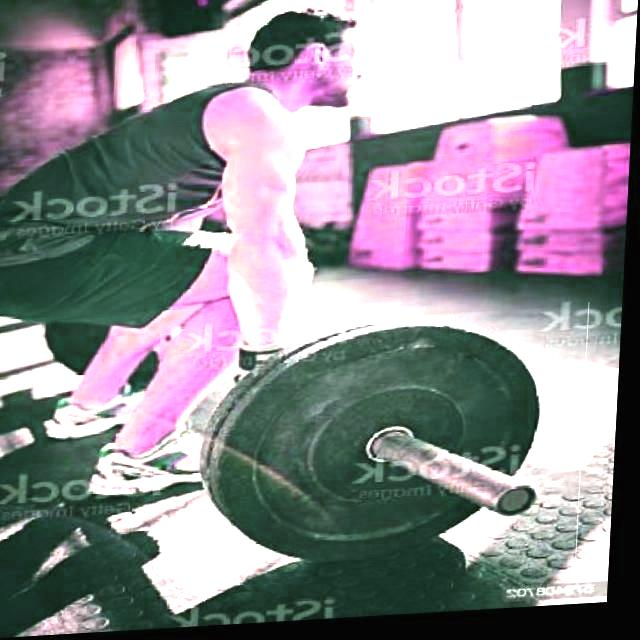barbell: (195, 311, 594, 590)
